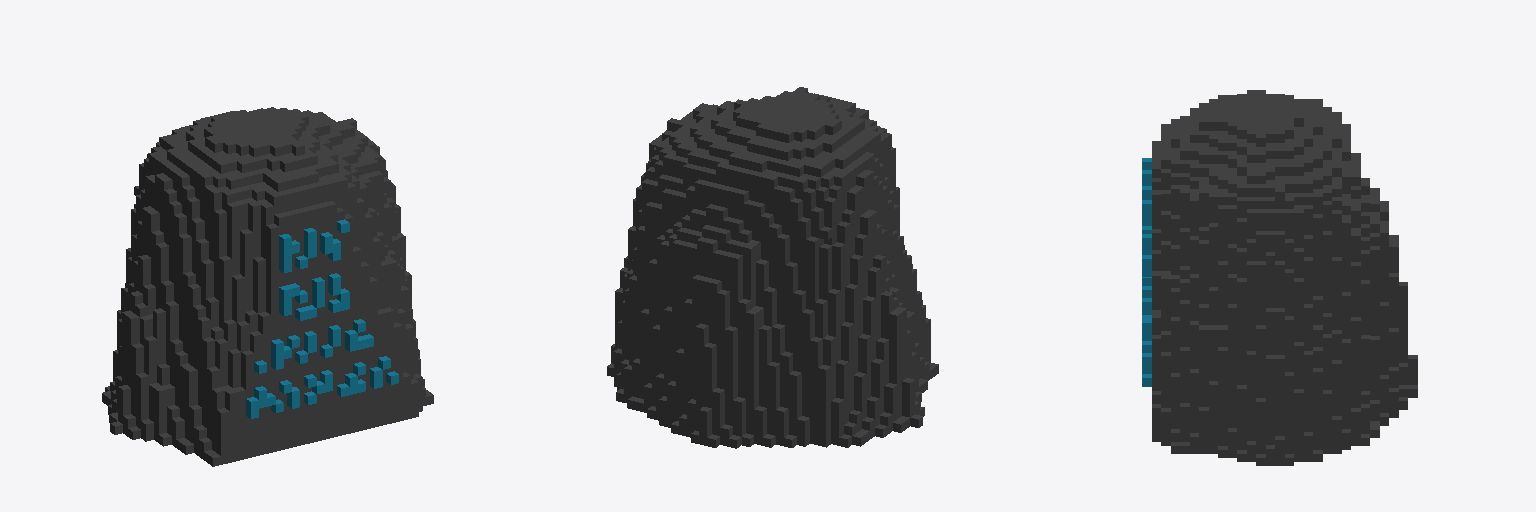
3 views of the same model, side by side, from view 1: azimuth 30°, elevation 25°; view 2: azimuth 150°, elevation 25°; view 3: azimuth 270°, elevation 25° (orthographic).
Parts seen in each view (by area): view 1: object 1; view 2: object 1; view 3: object 1.
Boxes of the visible parts, x1=… form: object 1: x1=102, y1=107, x2=433, y2=466; object 1: x1=607, y1=87, x2=938, y2=448; object 1: x1=1142, y1=90, x2=1417, y2=465.
Size of the model in its own units: 3.6 by 3.2 by 2.9.
1 materials, 1 textured.